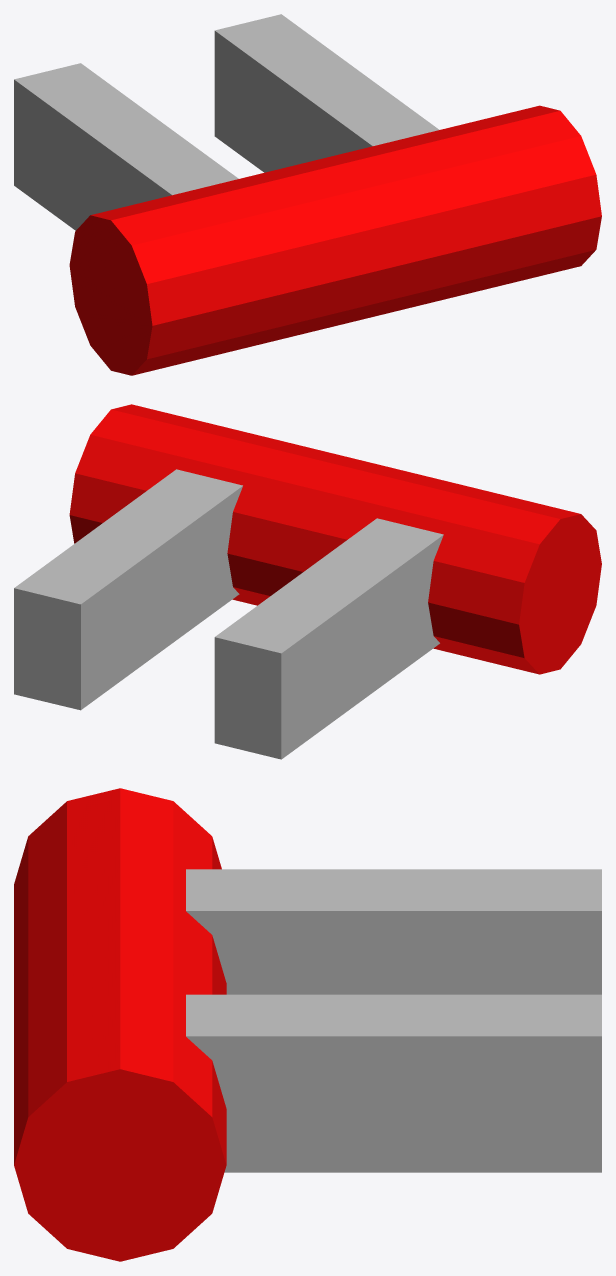
Rendered from schieber1.obj.
3 views of the same model, one above another, from view 1: azimuth 30°, elevation 25°; view 2: azimuth 150°, elevation 25°; view 3: azimuth 270°, elevation 25° (orthographic). The views are drawn at different scales.
Parts seen in each view (by area): view 1: schieber1; view 2: schieber1; view 3: schieber1.
Part boxes in pixels (left/top/right/bottom): schieber1: left=14, top=14, right=601, bottom=375; schieber1: left=14, top=404, right=601, bottom=759; schieber1: left=14, top=788, right=601, bottom=1261.
Size of the model in its own units: 0.1546 by 0.0494 by 0.1367.
